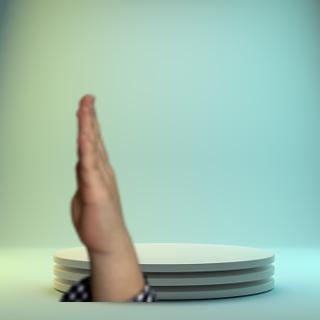RIGHT: (66, 91, 132, 253)
